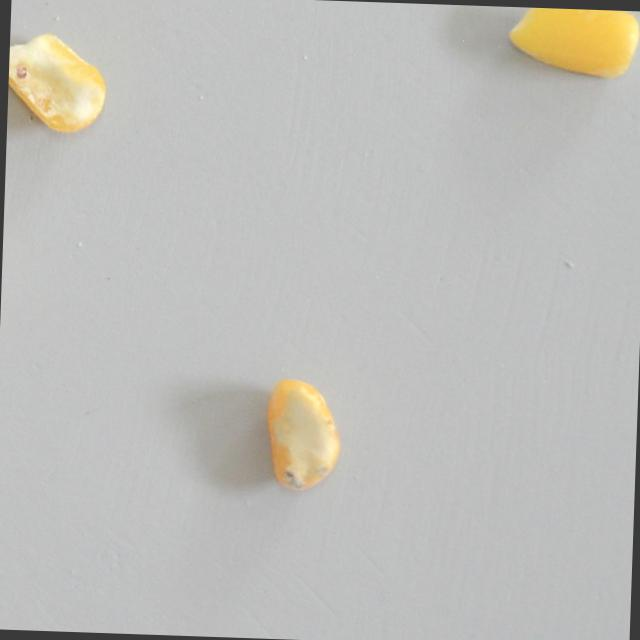dañado: (6, 27, 110, 142)
estandar: (506, 6, 637, 85)
punto_negro: (257, 374, 344, 496)
